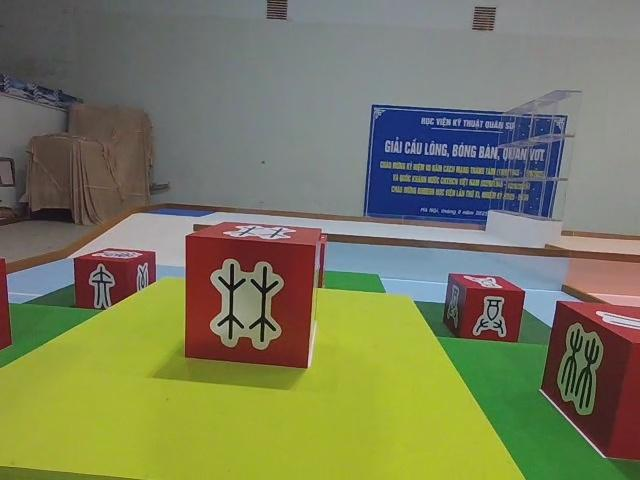R2 Fake: (539, 297, 640, 462), (71, 245, 158, 312)
R2 Real: (182, 218, 325, 371), (440, 270, 526, 346)
